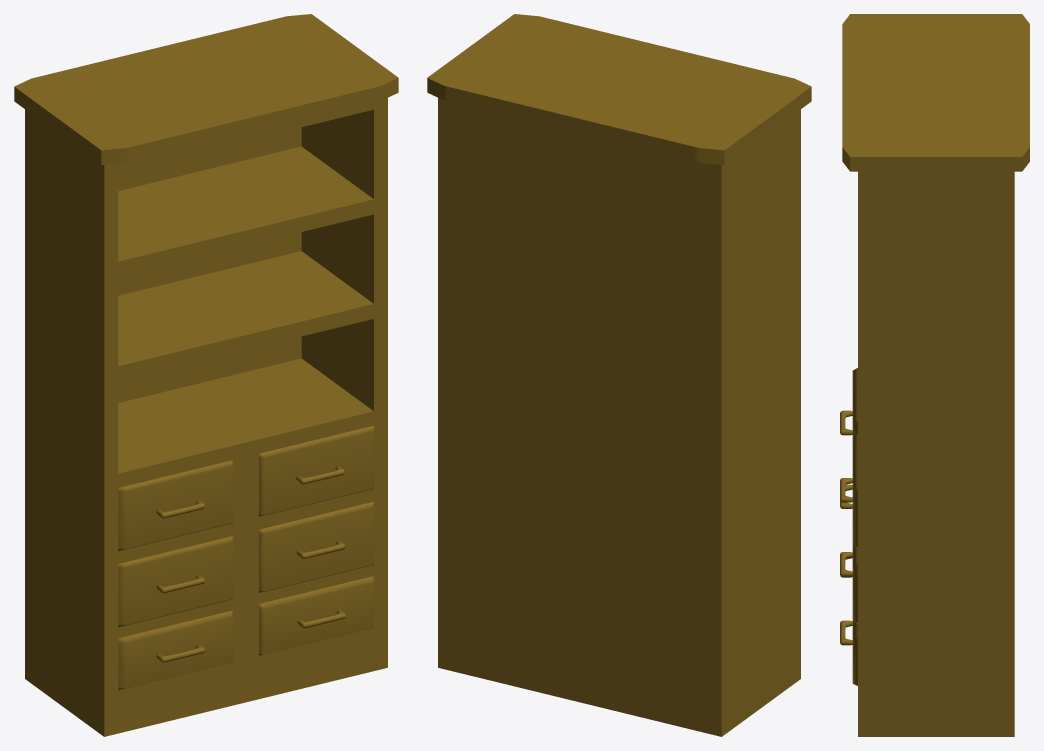
The model's file is geo_armoireUV.fbx.
3 views of the same model, side by side, from view 1: azimuth 30°, elevation 25°; view 2: azimuth 150°, elevation 25°; view 3: azimuth 270°, elevation 25° (orthographic).
Parts seen in each view (by area): view 1: geo_armoireUV; view 2: geo_armoireUV; view 3: geo_armoireUV.
Part boxes in pixels (x1,y1,x2,y2): geo_armoireUV: (14,14,398,736); geo_armoireUV: (427,14,811,736); geo_armoireUV: (840,14,1029,736).
Size of the model in its own units: 9.53 by 18.09 by 5.34.
